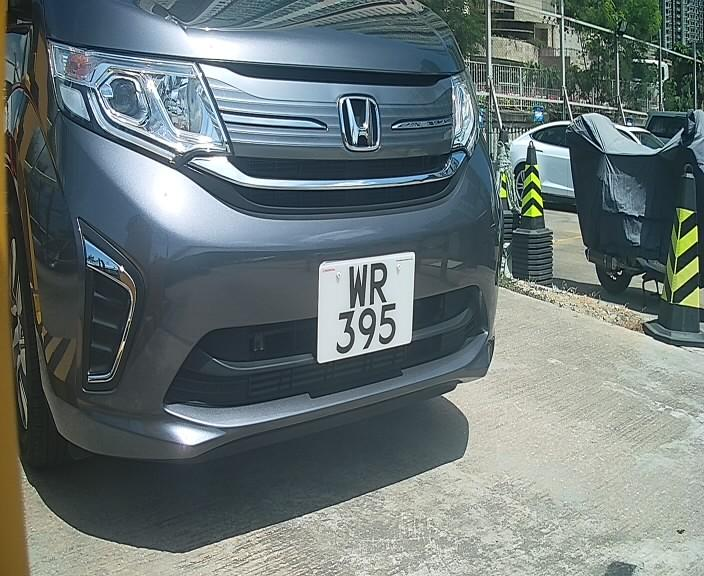Car: (1, 1, 547, 512)
License Plate: (315, 247, 419, 371)
